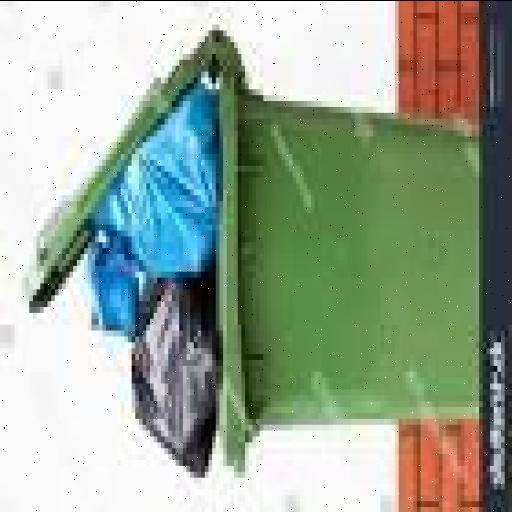poubelle_pleine: (24, 7, 482, 479)
